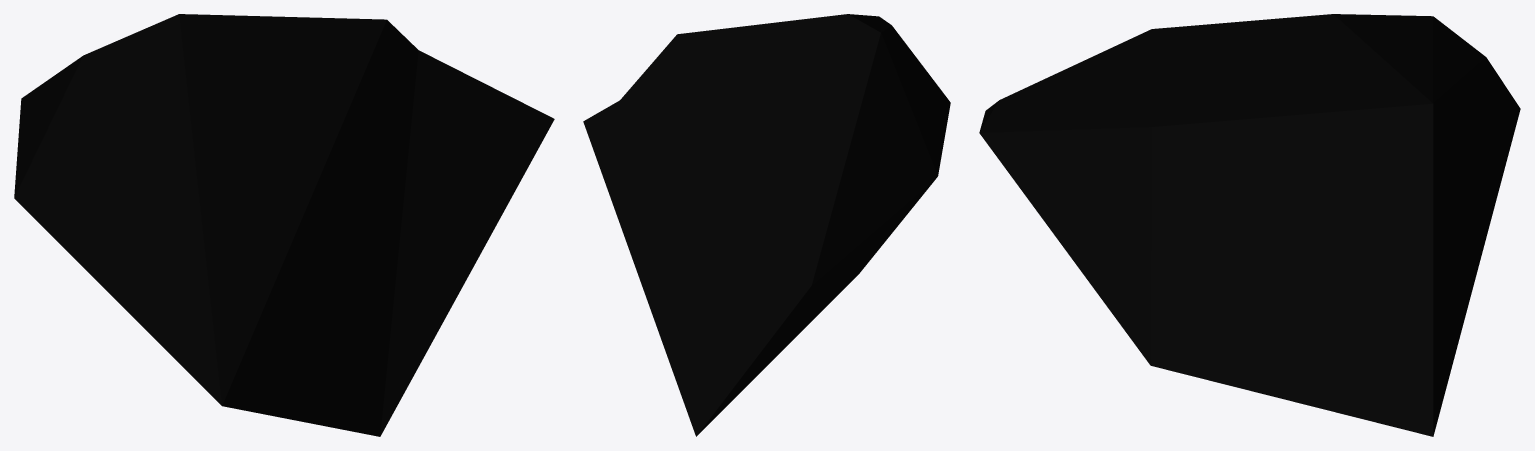
3 renders of one model, left to right at view 1: azimuth 30°, elevation 25°; view 2: azimuth 150°, elevation 25°; view 3: azimuth 270°, elevation 25°, orthographic. The views are drawn at different scales.
Bounding box in the file's own units: 0.0316 × 0.0279 × 0.0414.
Materials: 1 (1 with a texture image).
